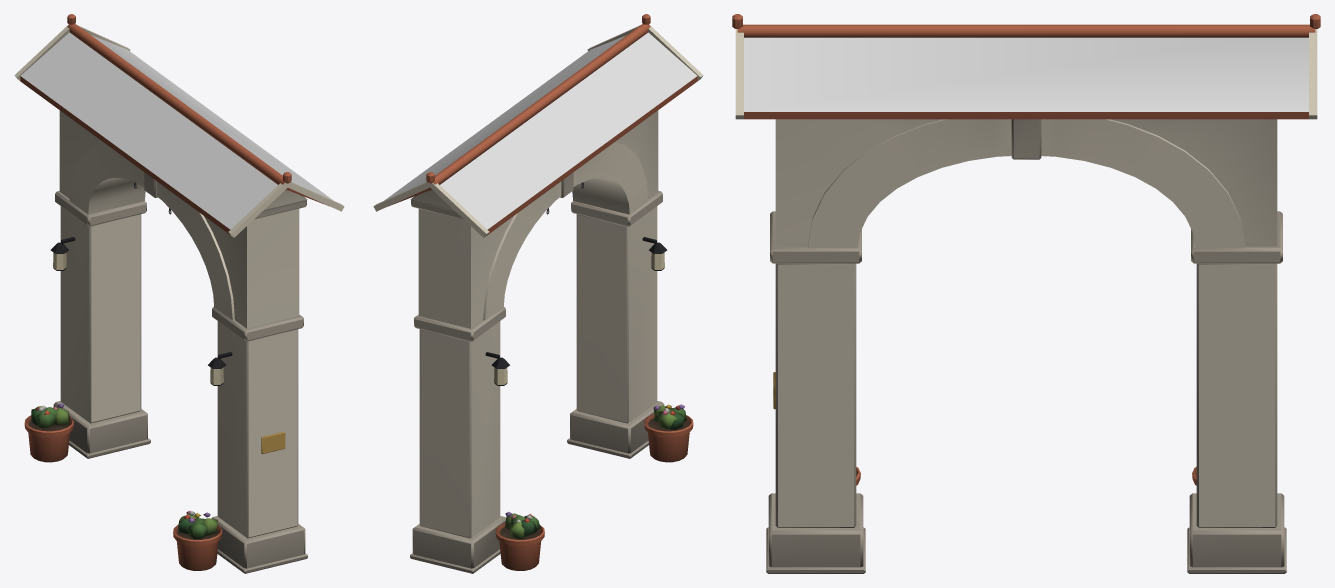
Rendered from SchoolArch.fbx.
3 views of the same model, side by side, from view 1: azimuth 30°, elevation 25°; view 2: azimuth 150°, elevation 25°; view 3: azimuth 270°, elevation 25° (orthographic). The views are drawn at different scales.
Visible parts, largest first — view 1: SchoolArch; view 2: SchoolArch; view 3: SchoolArch.
Boxes of the visible parts, x1=… form: SchoolArch: x1=14, y1=14, x2=344, y2=573; SchoolArch: x1=373, y1=14, x2=703, y2=573; SchoolArch: x1=732, y1=14, x2=1320, y2=573.
Size of the model in its own units: 1.8 by 5.15 by 5.1.
